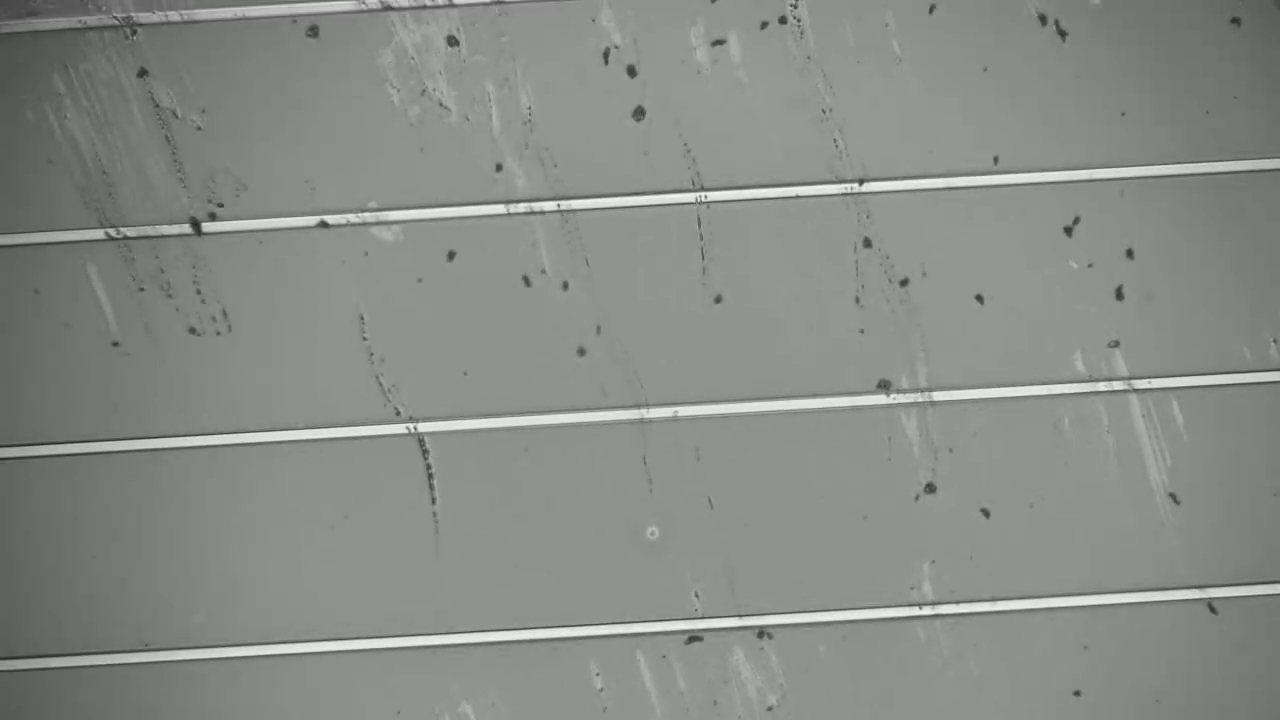scratch: (788, 31, 950, 406), (58, 30, 236, 326), (358, 314, 455, 548), (664, 126, 734, 288)
stains_enbedded: (184, 212, 214, 242), (312, 205, 336, 235)
